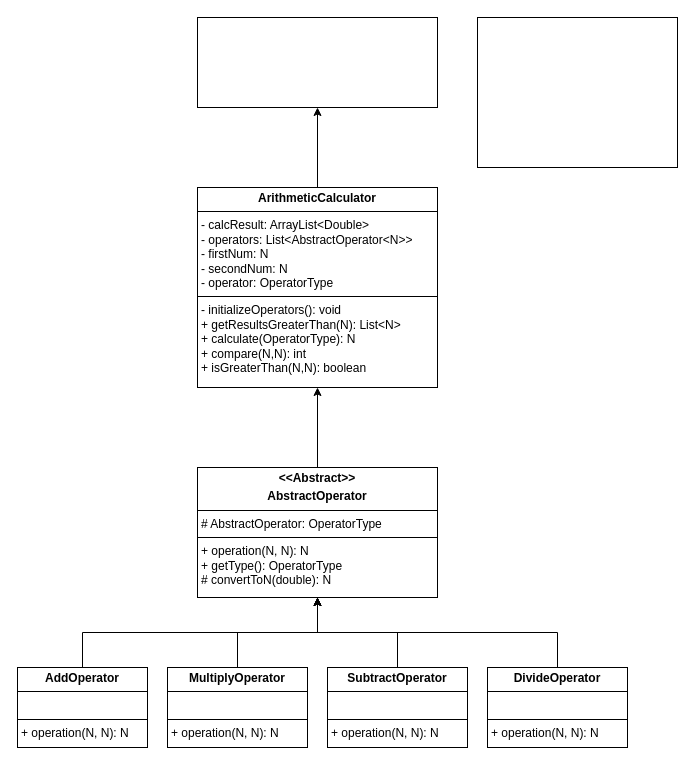
The diagram is 695 pixels wide and 765 high, and some of its shapes have lost their labels. Here are the shapes that lost their labels. From the top down, the box of each, then its label:
(196, 16, 438, 108): App + main(String): void
(476, 16, 678, 168): <<Enum>> OperatorType Add Subtract Multiply Divide + getOperator(): char
